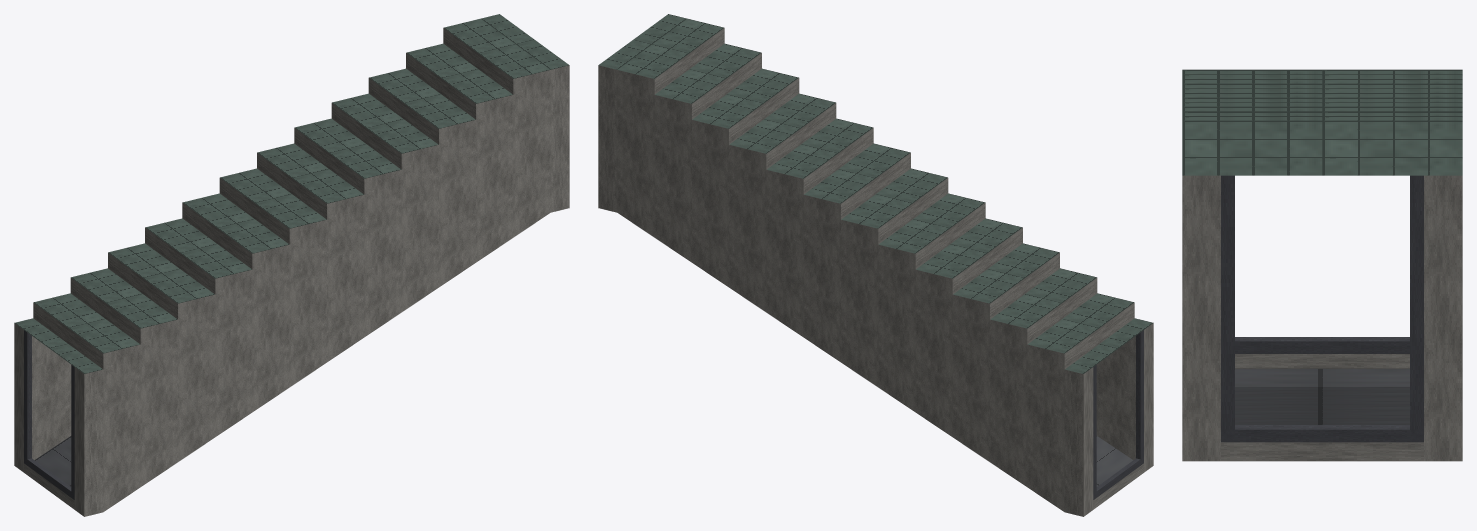
Rendered from stairs.obj.
3 views of the same model, side by side, from view 1: azimuth 30°, elevation 25°; view 2: azimuth 150°, elevation 25°; view 3: azimuth 270°, elevation 25° (orthographic). The views are drawn at different scales.
Size of the model in its own units: 640 by 420 by 160.
Materials: 5 (5 with a texture image).
